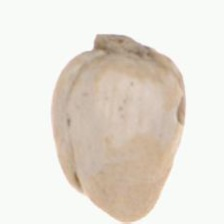L3: (69, 183, 134, 222)
L4: (52, 33, 185, 222)
